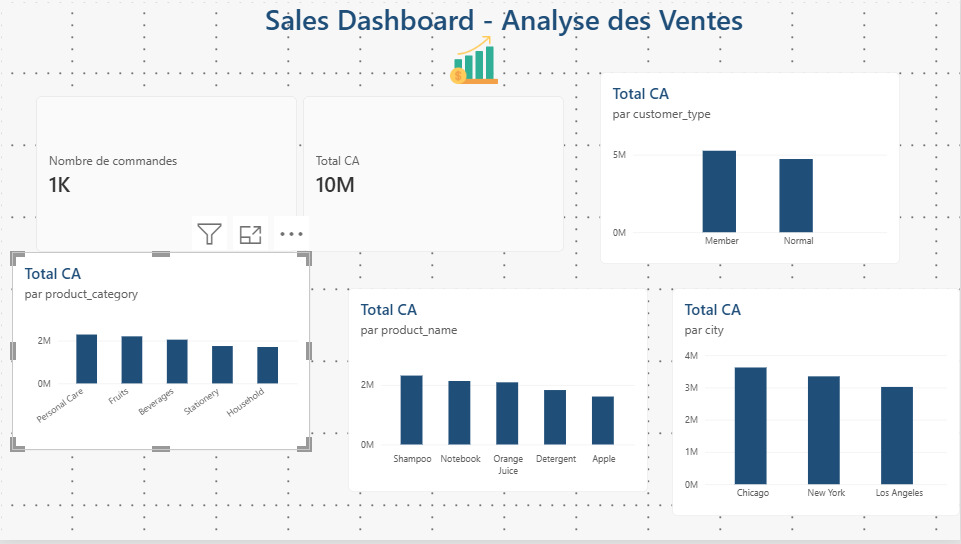

What the dashboard file says about the page in this screenshot:
{"tool":"powerbi","page":{"name":"Page 1","canvas":[1280,720],"ordinal":0},"visuals":[{"type":"cardVisual","fields":{"Data":["sales_clean.Nombre de commandes","sales_clean.Total CA"]},"box":[48,128,704,208],"z":0},{"type":"lineClusteredColumnComboChart","fields":{"Category":["sales_clean.product_category"],"Y":["sales_clean.Total CA"]},"box":[16,336,398.7,264.6],"z":1000},{"type":"lineClusteredColumnComboChart","fields":{"Category":["sales_clean.city"],"Y":["sales_clean.Total CA"]},"box":[896,384,384,304],"z":2000},{"type":"lineClusteredColumnComboChart","fields":{"Category":["sales_clean.customer_type"],"Y":["sales_clean.Total CA"]},"box":[800,96,400,256],"z":3000},{"type":"lineClusteredColumnComboChart","fields":{"Category":["sales_clean.product_name"],"Y":["sales_clean.Total CA"]},"box":[464,384,400,272],"z":4000},{"type":"textbox","box":[16,592,400,128],"z":5000},{"type":"textbox","box":[192,0,960,64],"z":6000},{"type":"image","box":[592,48,80,64],"z":7000}]}

Visuals, with their boxes in screenshot pixels (x1, y1, x2, y2), scaled from the page's 1280x720 canvas onto the 961x544 screenshot:
cardVisual - sales_clean.Nombre de commandes x sales_clean.Total CA: bbox=[36, 97, 565, 254]
lineClusteredColumnComboChart - sales_clean.product_category x sales_clean.Total CA: bbox=[12, 254, 311, 454]
lineClusteredColumnComboChart - sales_clean.city x sales_clean.Total CA: bbox=[673, 290, 960, 520]
lineClusteredColumnComboChart - sales_clean.customer_type x sales_clean.Total CA: bbox=[601, 73, 901, 266]
lineClusteredColumnComboChart - sales_clean.product_name x sales_clean.Total CA: bbox=[348, 290, 649, 496]
textbox: bbox=[12, 447, 312, 543]
textbox: bbox=[144, 0, 865, 48]
image: bbox=[444, 36, 505, 85]
